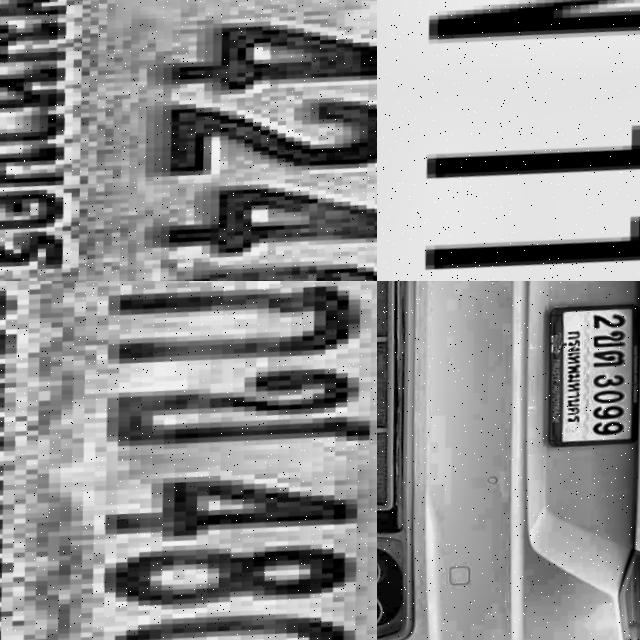license-plate: (0, 281, 377, 640), (0, 0, 377, 281), (377, 0, 640, 281), (539, 304, 640, 459)
